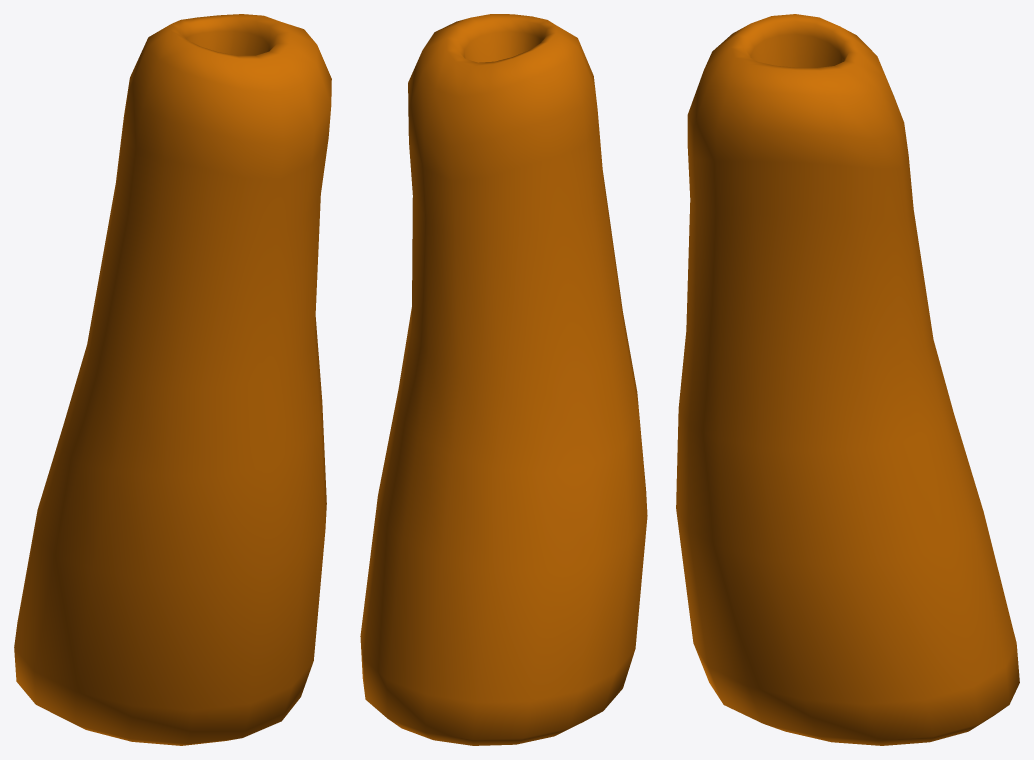
3 renders of one model, left to right at view 1: azimuth 30°, elevation 25°; view 2: azimuth 150°, elevation 25°; view 3: azimuth 270°, elevation 25°, orthographic. The views are drawn at different scales.
Parts seen in each view (by area): view 1: Tube_03_low; view 2: Tube_03_low; view 3: Tube_03_low.
Boxes of the visible parts, left/top/right/bottom form: Tube_03_low: left=14, top=14, right=331, bottom=745; Tube_03_low: left=360, top=14, right=647, bottom=745; Tube_03_low: left=676, top=14, right=1019, bottom=745.
Size of the model in its own units: 9.75 by 24.91 by 11.52.
